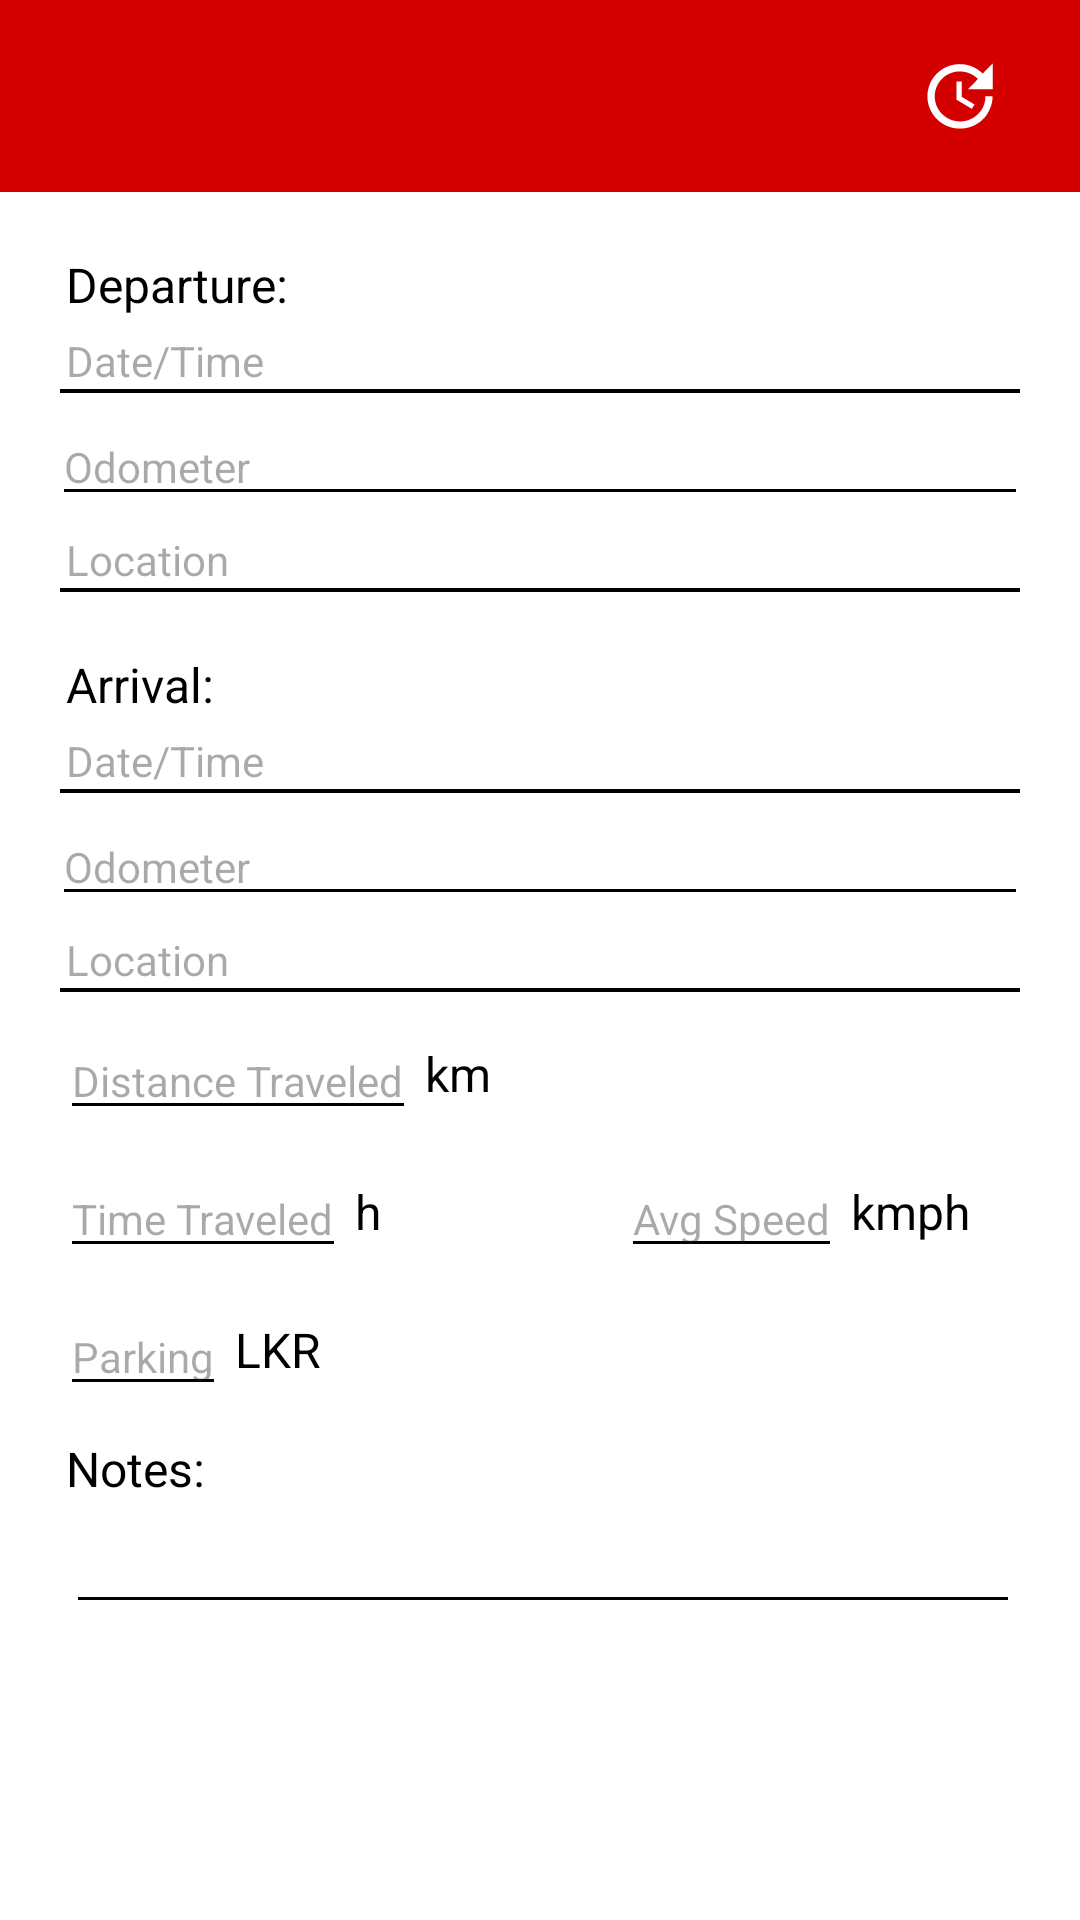

Icons on this 1080px x 1920px Android screen, each with its box as bbox(x1, y1, x2, y2):
update: bbox(927, 63, 993, 129)
